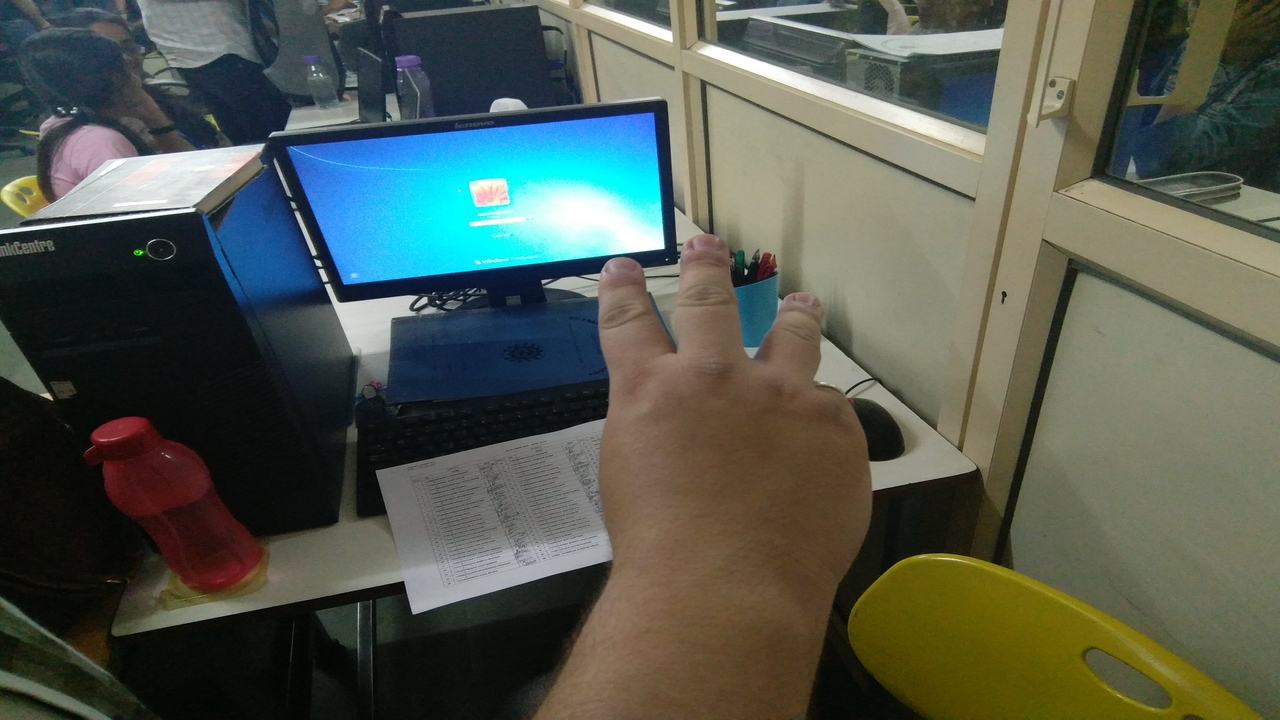fingertip: (588, 252, 646, 298), (780, 277, 824, 320), (678, 227, 725, 267)
